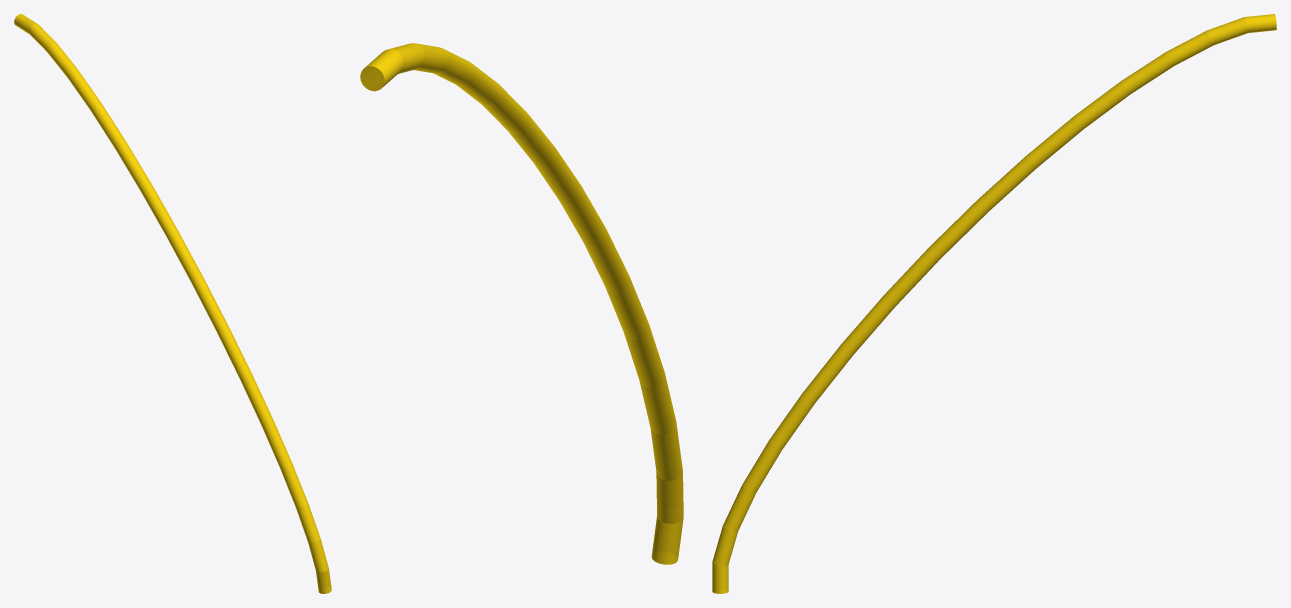
The model's file is Event_420094457_track_55.fbx.
3 renders of one model, left to right at view 1: azimuth 30°, elevation 25°; view 2: azimuth 150°, elevation 25°; view 3: azimuth 270°, elevation 25°, orthographic. The views are drawn at different scales.
Visible parts, largest first — view 1: Model; view 2: Model; view 3: Model.
Boxes of the visible parts, left/top/right/bottom form: Model: left=14, top=14, right=331, bottom=593; Model: left=360, top=43, right=683, bottom=564; Model: left=712, top=14, right=1276, bottom=593.
Bounding box in the file's own units: 0.3163 × 1.43 × 1.38.
